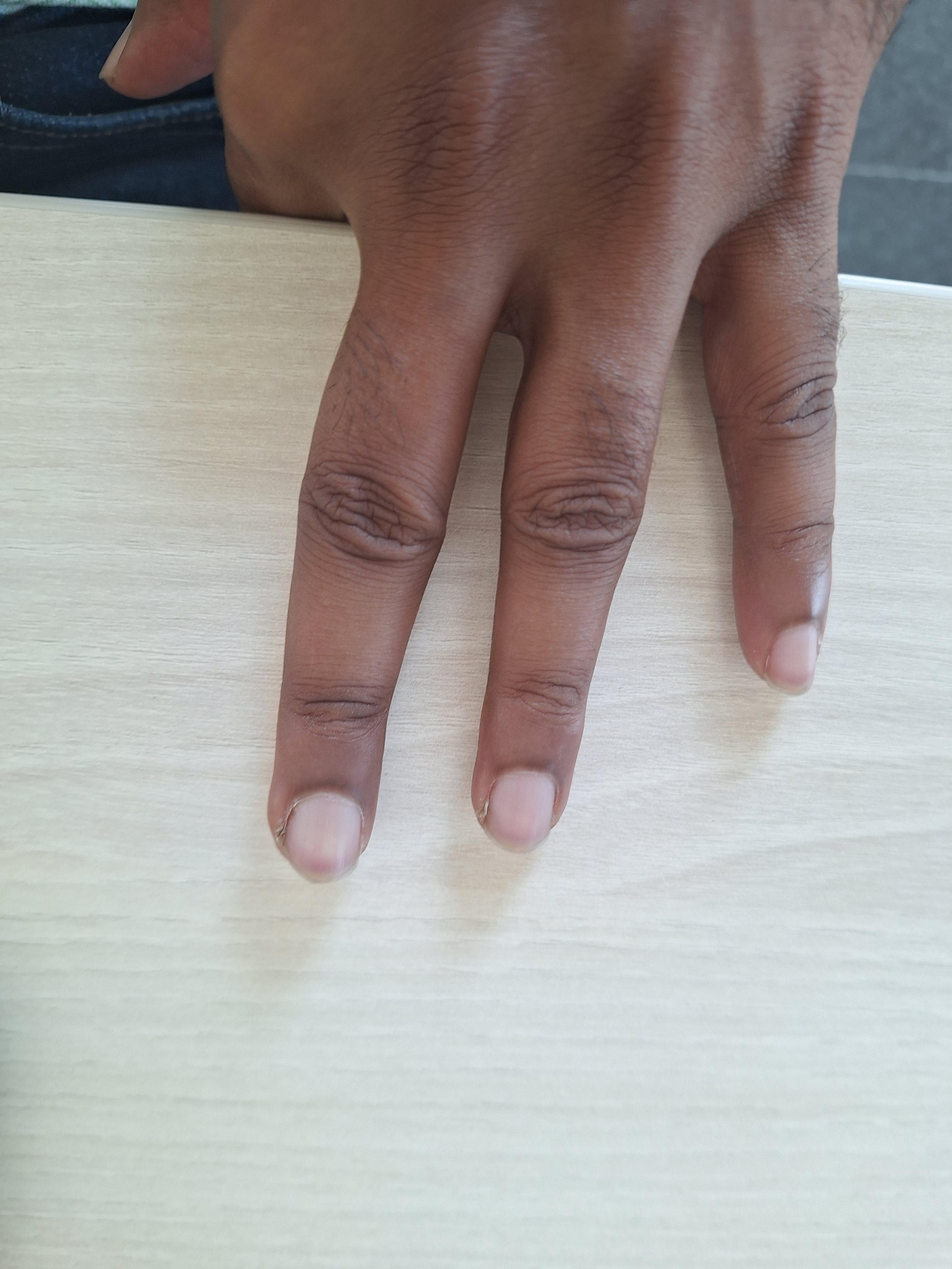Fingernail: (283, 795, 363, 884), (485, 772, 556, 855), (764, 624, 817, 696)
